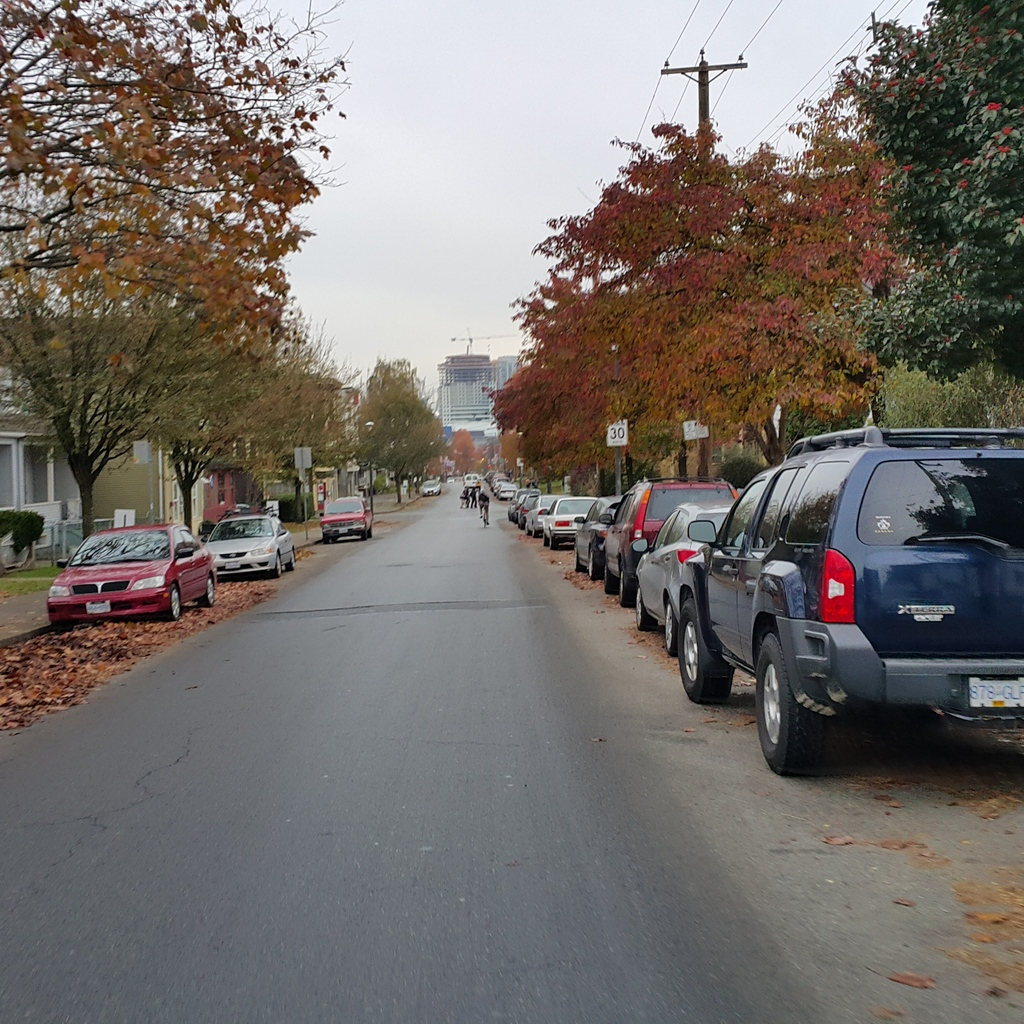Car: (670, 412, 1023, 791), (600, 475, 745, 609), (40, 522, 219, 622), (637, 499, 740, 650), (198, 510, 296, 580), (577, 487, 628, 588), (320, 487, 378, 548)
